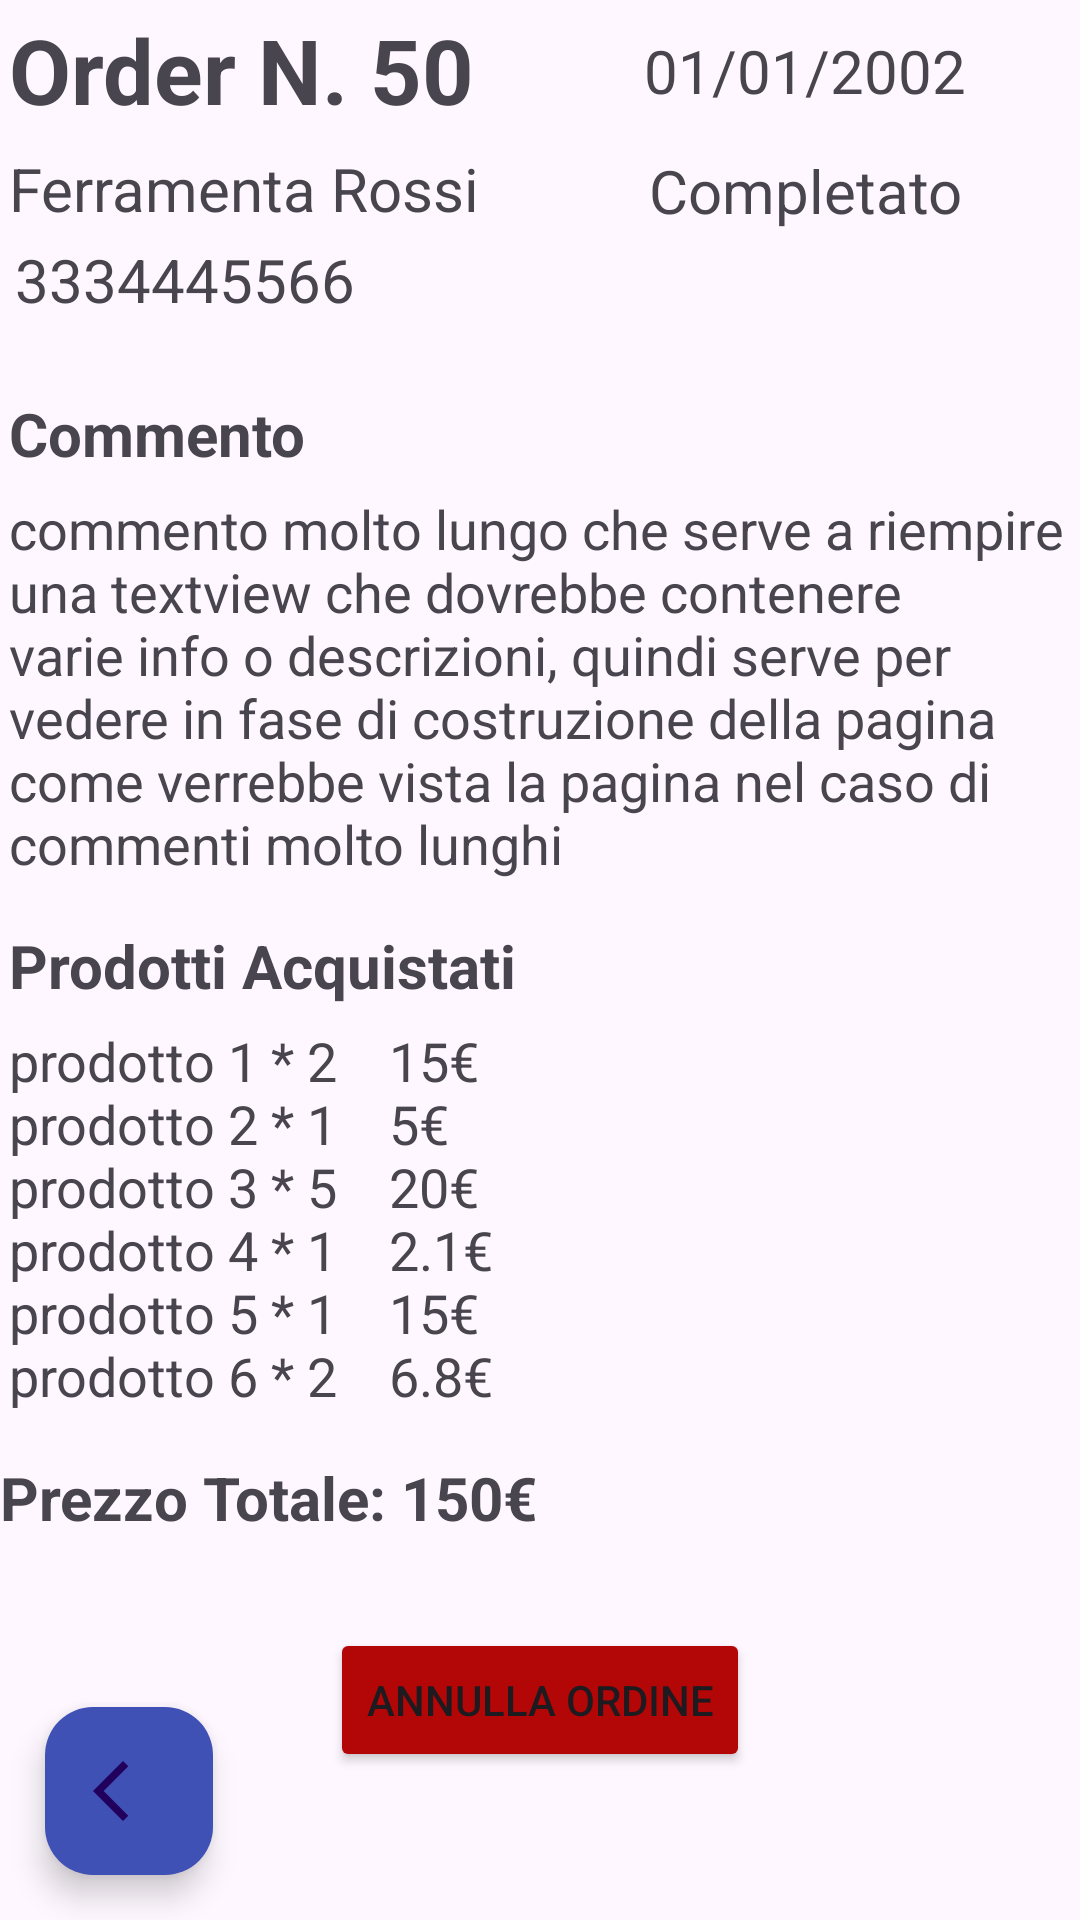

Named icons in this screenshot (1080w x 1920h) and their bounding boxes, (x1, y1, x2, y2):
Button indietro: (45, 1707, 213, 1875)
